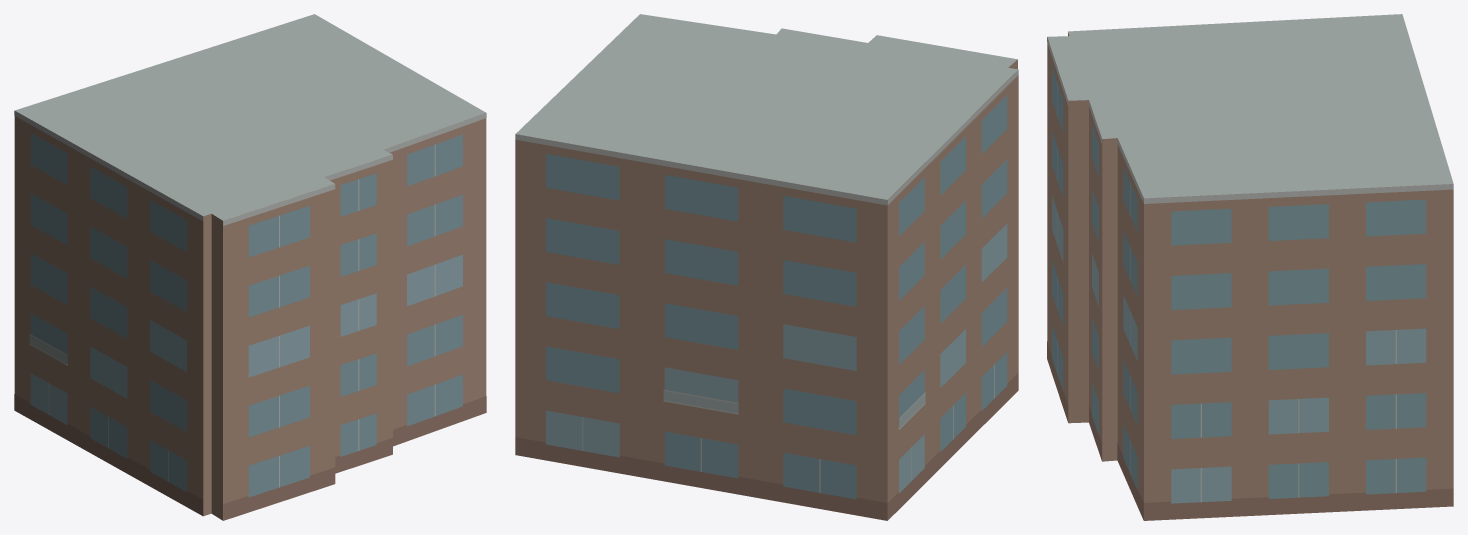
The model's file is survey-upis-32585900.glb.
3 views of the same model, side by side, from view 1: azimuth 30°, elevation 25°; view 2: azimuth 150°, elevation 25°; view 3: azimuth 270°, elevation 25° (orthographic). The views are drawn at different scales.
Parts seen in each view (by area): view 1: survey-upis-32585900.tmp; view 2: survey-upis-32585900.tmp; view 3: survey-upis-32585900.tmp.
Part boxes in pixels (box(x1,y1,x2,y2)): survey-upis-32585900.tmp: box(14, 14, 486, 520); survey-upis-32585900.tmp: box(515, 14, 1018, 520); survey-upis-32585900.tmp: box(1047, 14, 1453, 520).
Bounding box in the file's own units: 17.24 × 14.05 × 16.06.
